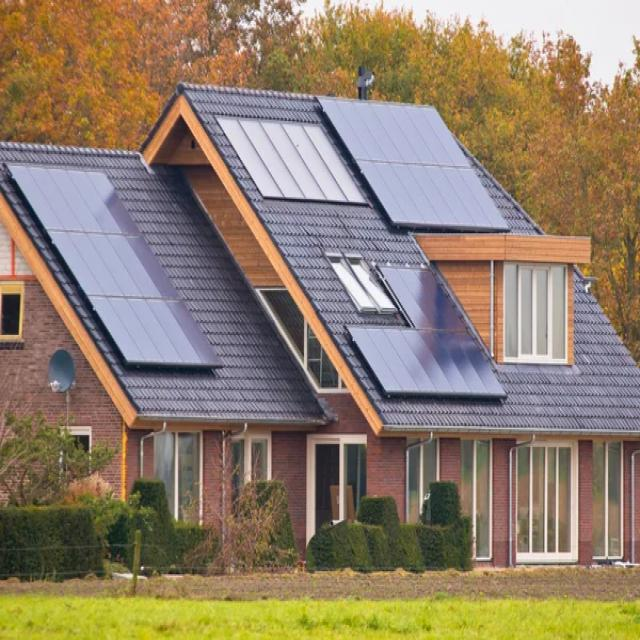clean-solar-panel: (5, 161, 222, 364), (315, 95, 512, 229), (344, 265, 509, 396)
